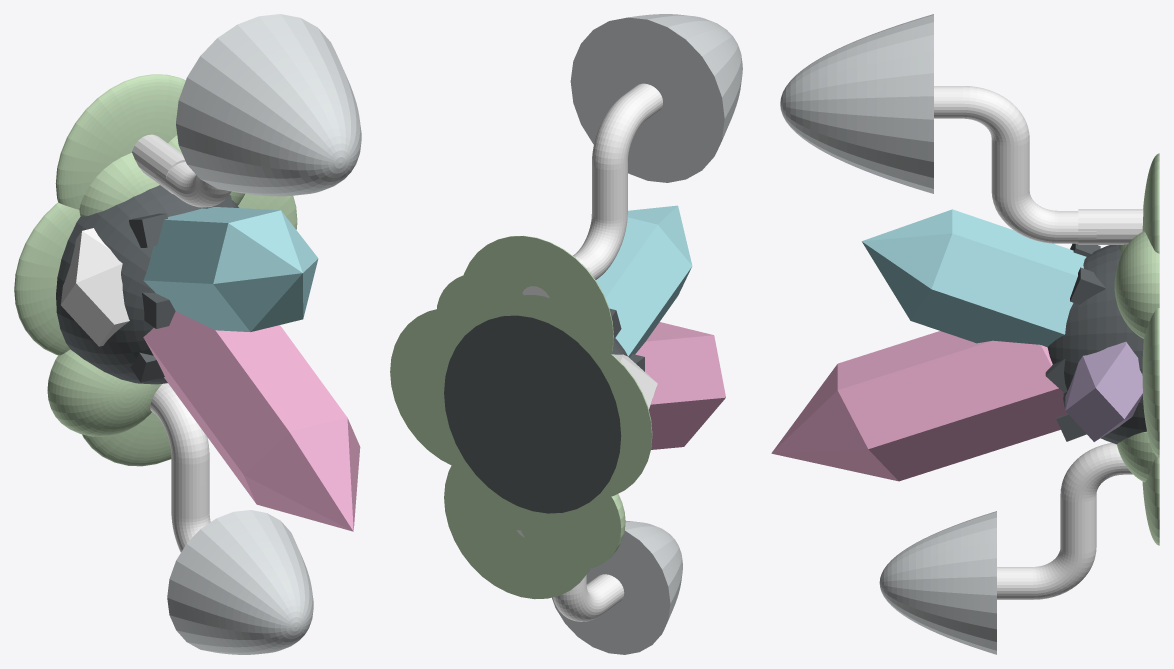
Rendered from tinker.obj.
3 renders of one model, left to right at view 1: azimuth 30°, elevation 25°; view 2: azimuth 150°, elevation 25°; view 3: azimuth 270°, elevation 25°, orthographic. The views are drawn at different scales.
Visible parts, largest first — view 1: group_0_14541540, group_0_13165757, group_0_15708628, group_0_11593967, group_0_16448250, group_0_6383466; view 2: group_0_13165757, group_0_14541540, group_0_6383466, group_0_16448250, group_0_11593967, group_0_15708628; view 3: group_0_14541540, group_0_15708628, group_0_11593967, group_0_16448250, group_0_13165757, group_0_6383466, group_0_13877221.
Boxes of the visible parts, box(x1,y1,x2,y2) form: group_0_14541540: box(167, 14, 361, 654); group_0_13165757: box(14, 74, 297, 466); group_0_15708628: box(143, 311, 360, 531); group_0_11593967: box(143, 207, 318, 332); group_0_16448250: box(61, 134, 231, 552); group_0_6383466: box(56, 185, 238, 384); group_0_13165757: box(390, 235, 652, 599); group_0_14541540: box(552, 14, 742, 654); group_0_6383466: box(444, 308, 644, 513); group_0_16448250: box(516, 83, 662, 621); group_0_11593967: box(596, 205, 692, 357); group_0_15708628: box(635, 322, 725, 449); group_0_14541540: box(780, 14, 996, 654); group_0_15708628: box(771, 331, 1067, 481); group_0_11593967: box(862, 209, 1086, 347); group_0_16448250: box(934, 86, 1143, 599); group_0_13165757: box(1114, 153, 1159, 545); group_0_6383466: box(1045, 243, 1146, 444); group_0_13877221: box(1065, 341, 1142, 441).
Bounding box in the file's own units: 34 × 76 × 43.
